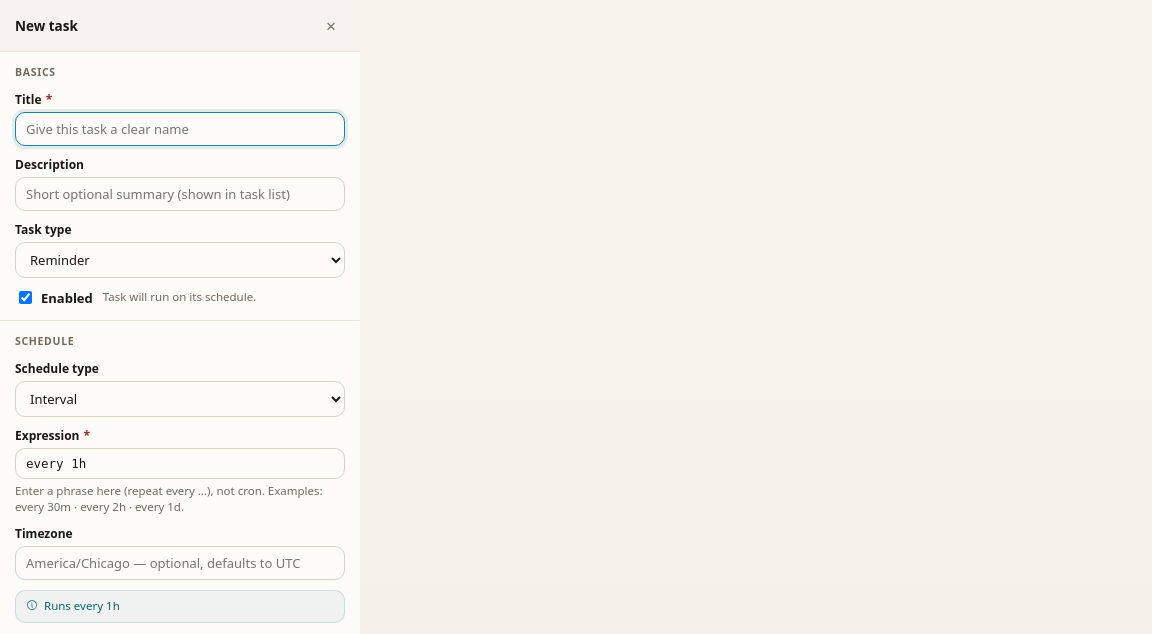
Test: Schedule summary preview › cron schedule with an unrecognised pattern falls back to raw 'Cron — <expr>'
Step 1. Select "Cron" in the dropdown labelled "Schedule type" → (180, 399), box [15,381,345,417]
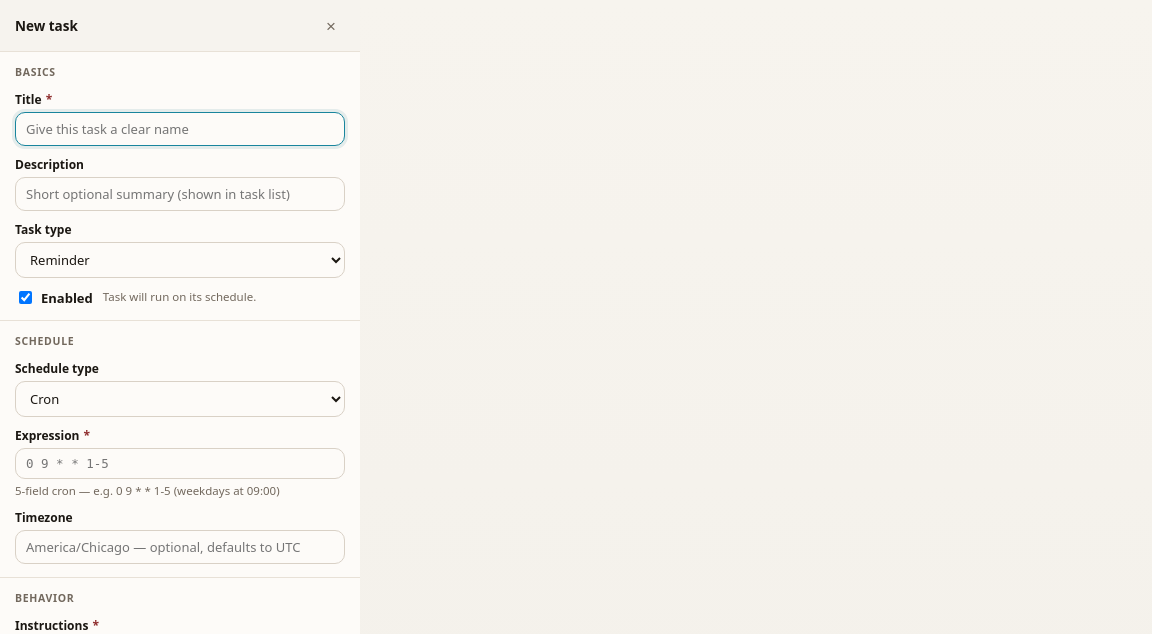
Step 2. Type "30 3 15 * 2" into the field labelled "Expression *" → (180, 464), box [15,448,345,479]
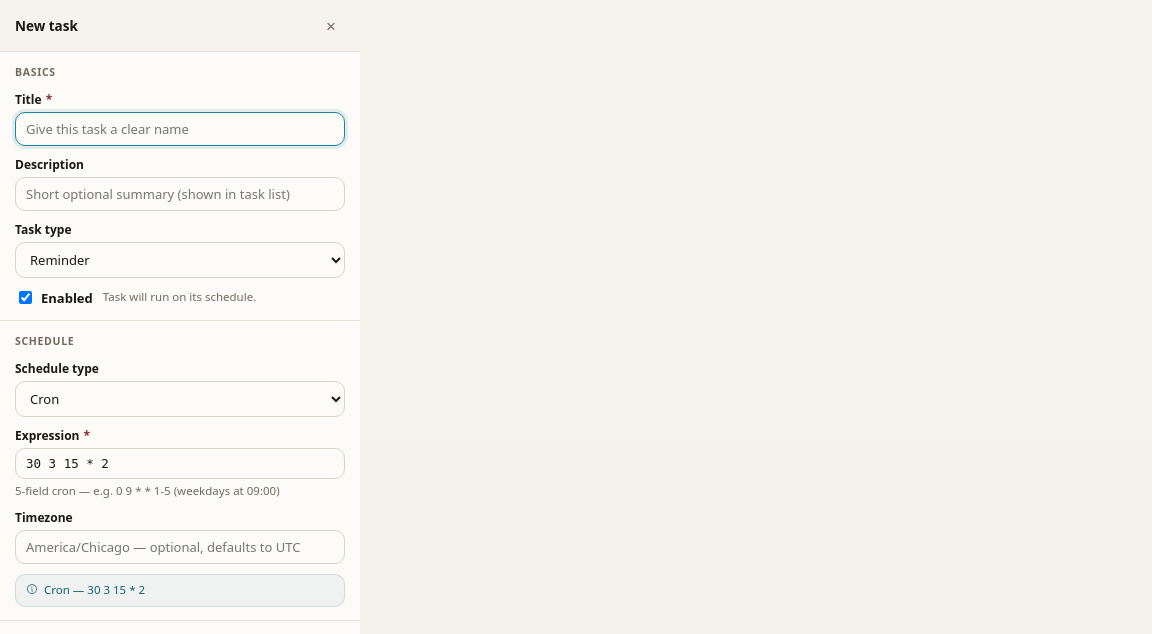
Now the message reads "Cron — 30 3 15 * 2", box [44,582,145,597]
